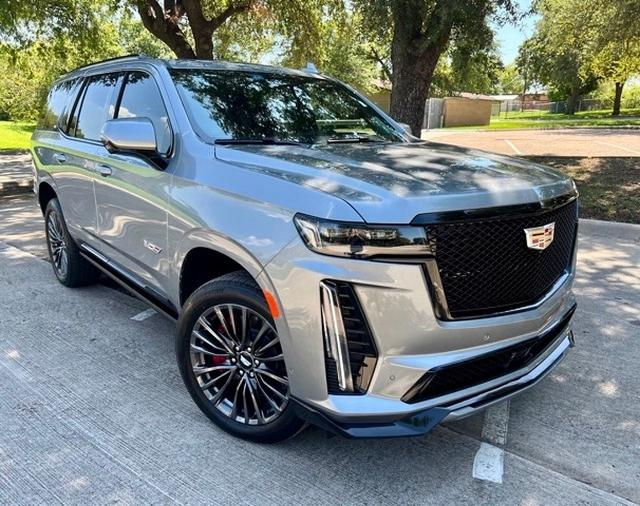cadillac: (31, 53, 580, 443)
